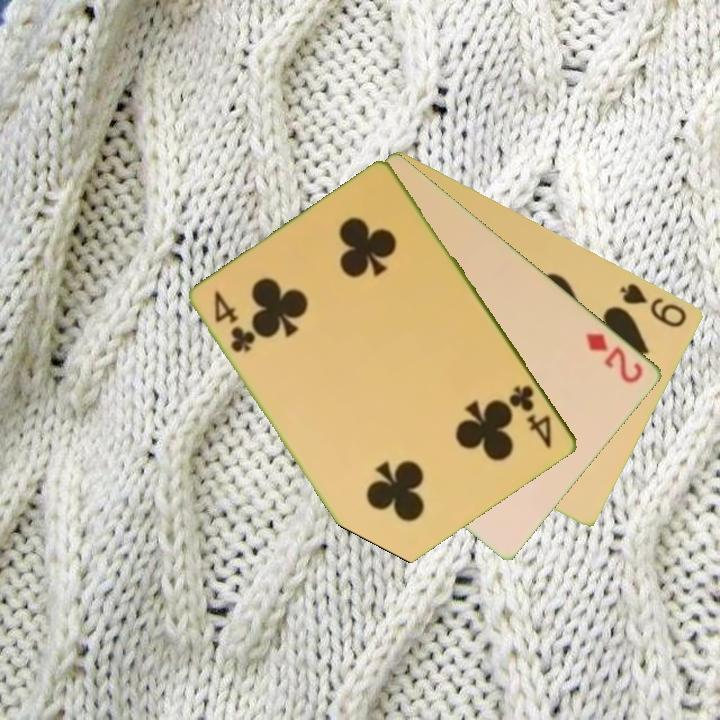2d: (582, 329, 647, 387)
4c: (506, 381, 556, 452), (211, 287, 258, 356)
9s: (617, 279, 691, 331)
